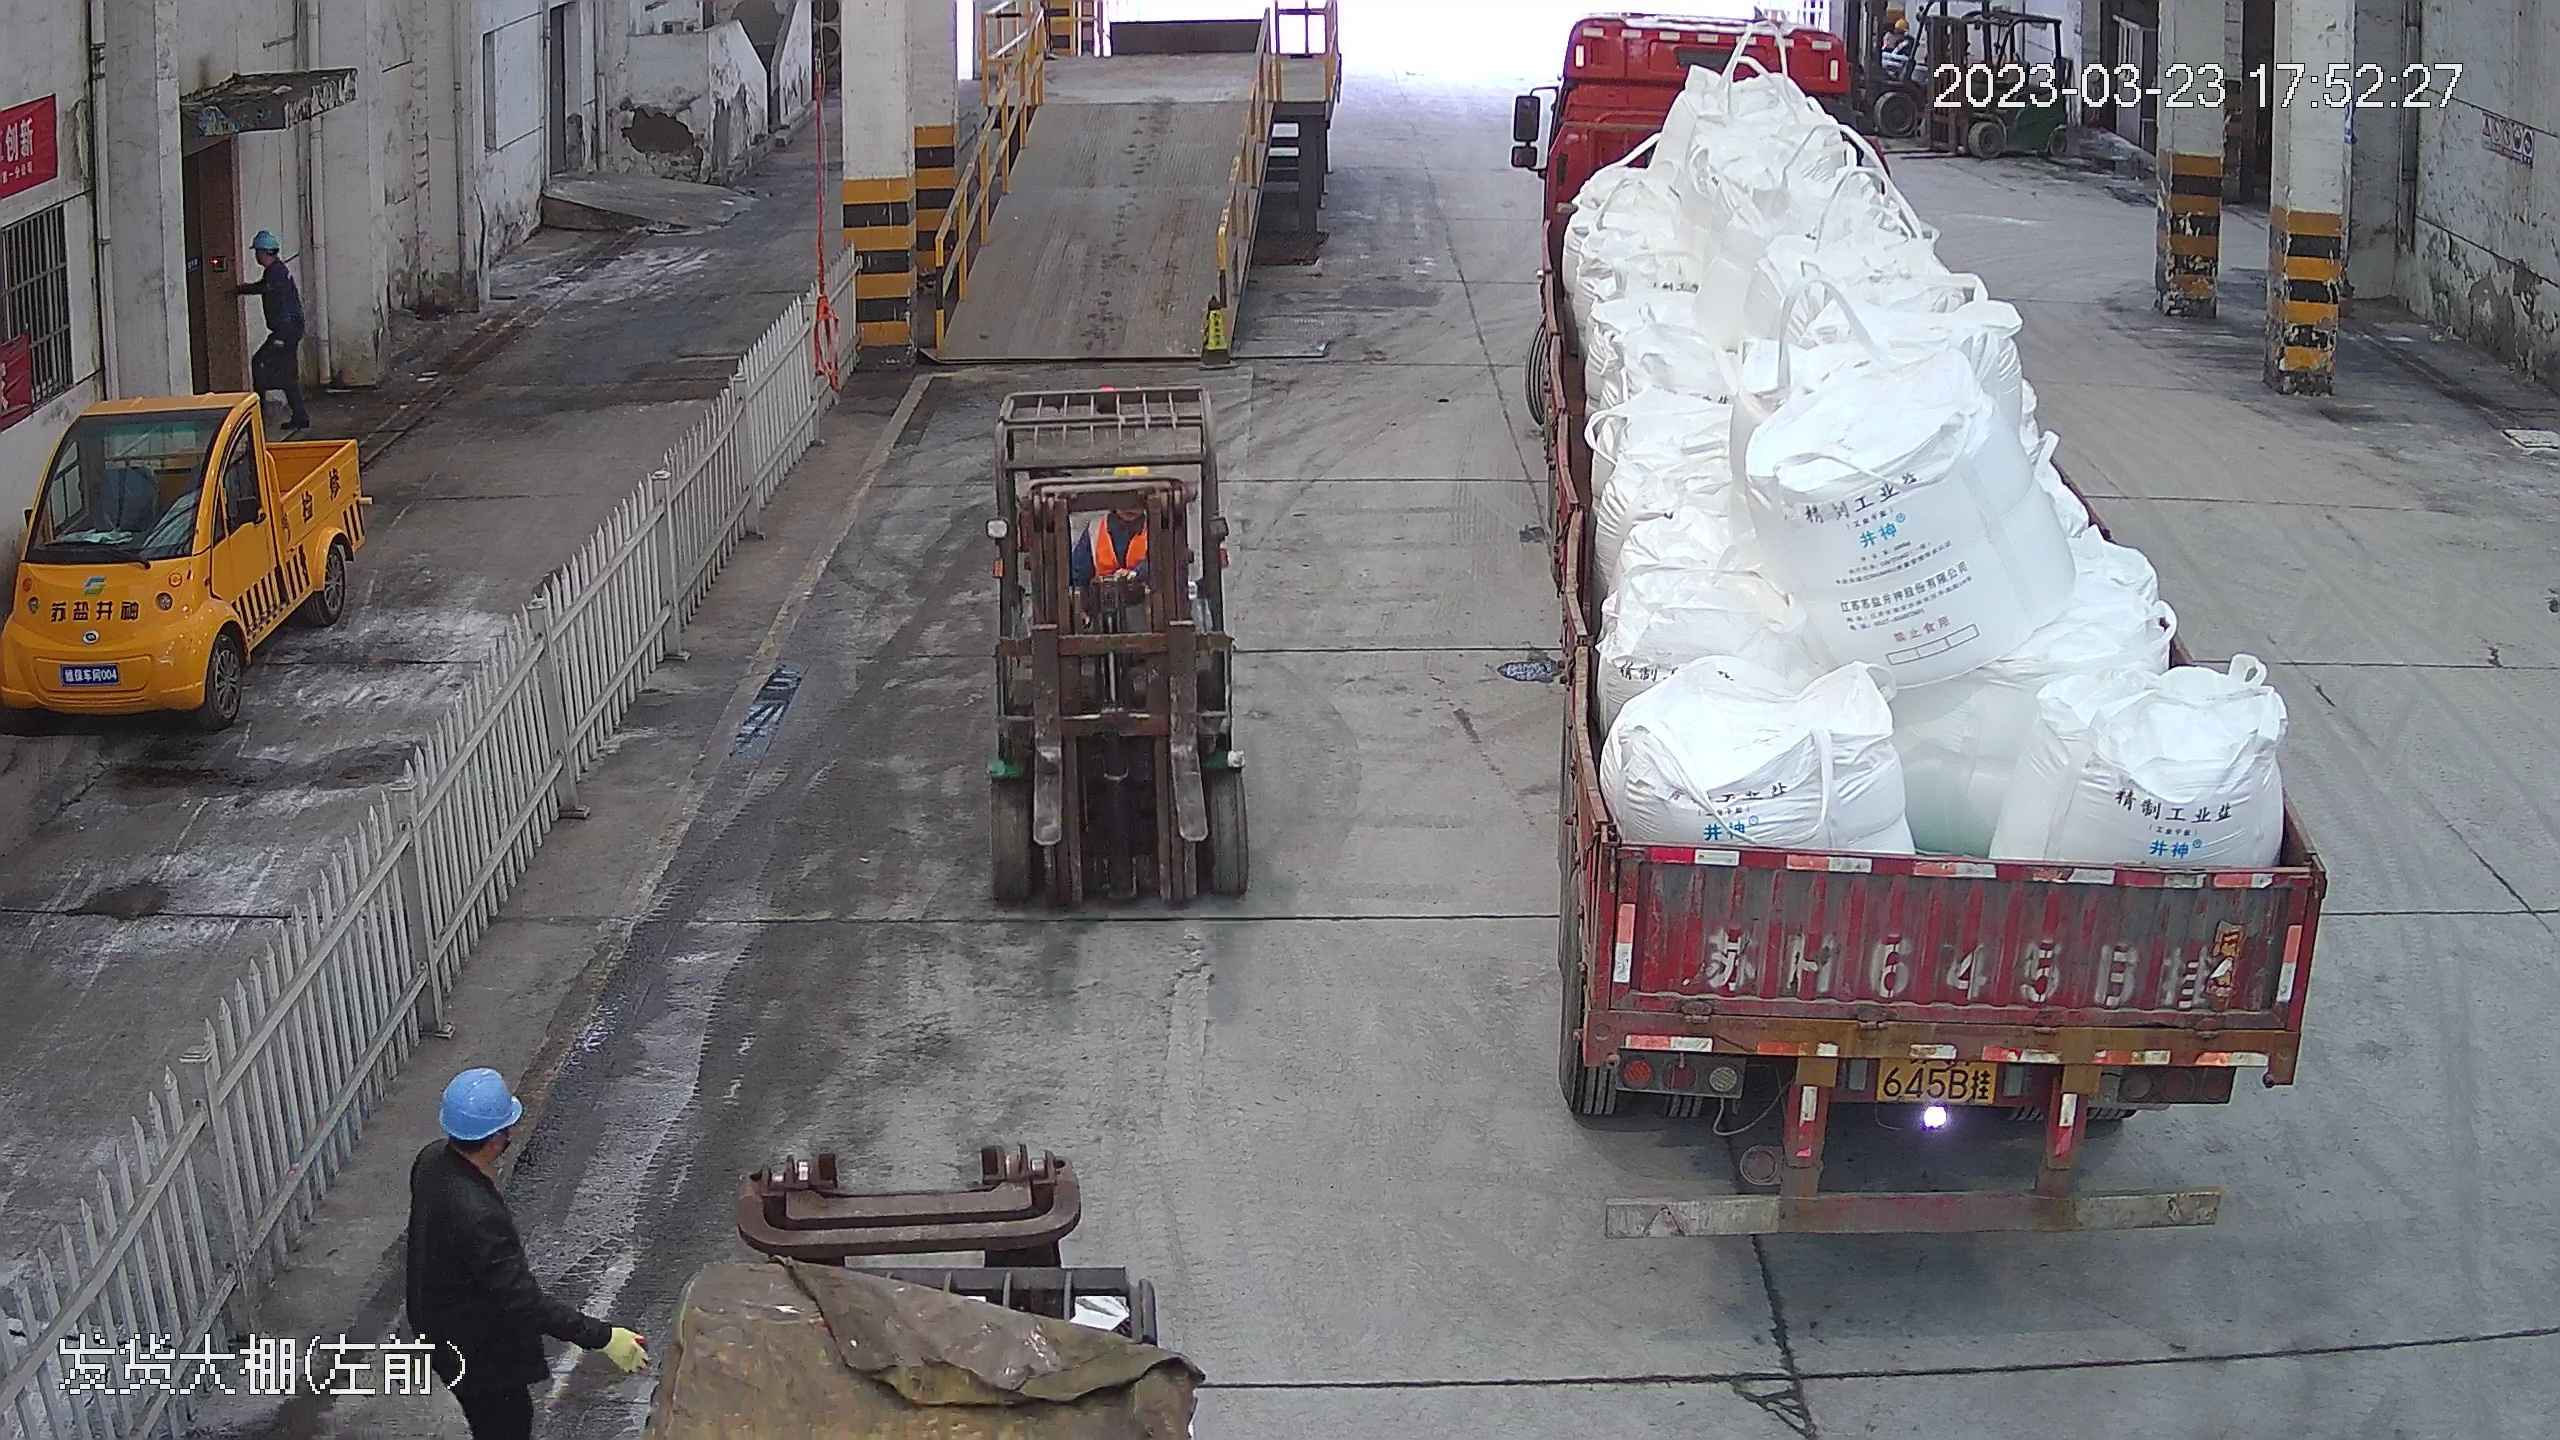head: (406, 1061, 531, 1245), (247, 225, 299, 302)
helmet: (433, 1063, 529, 1143), (245, 226, 283, 253)
people: (405, 1060, 643, 1440), (237, 224, 315, 431)
truck: (1510, 16, 2349, 1239)
